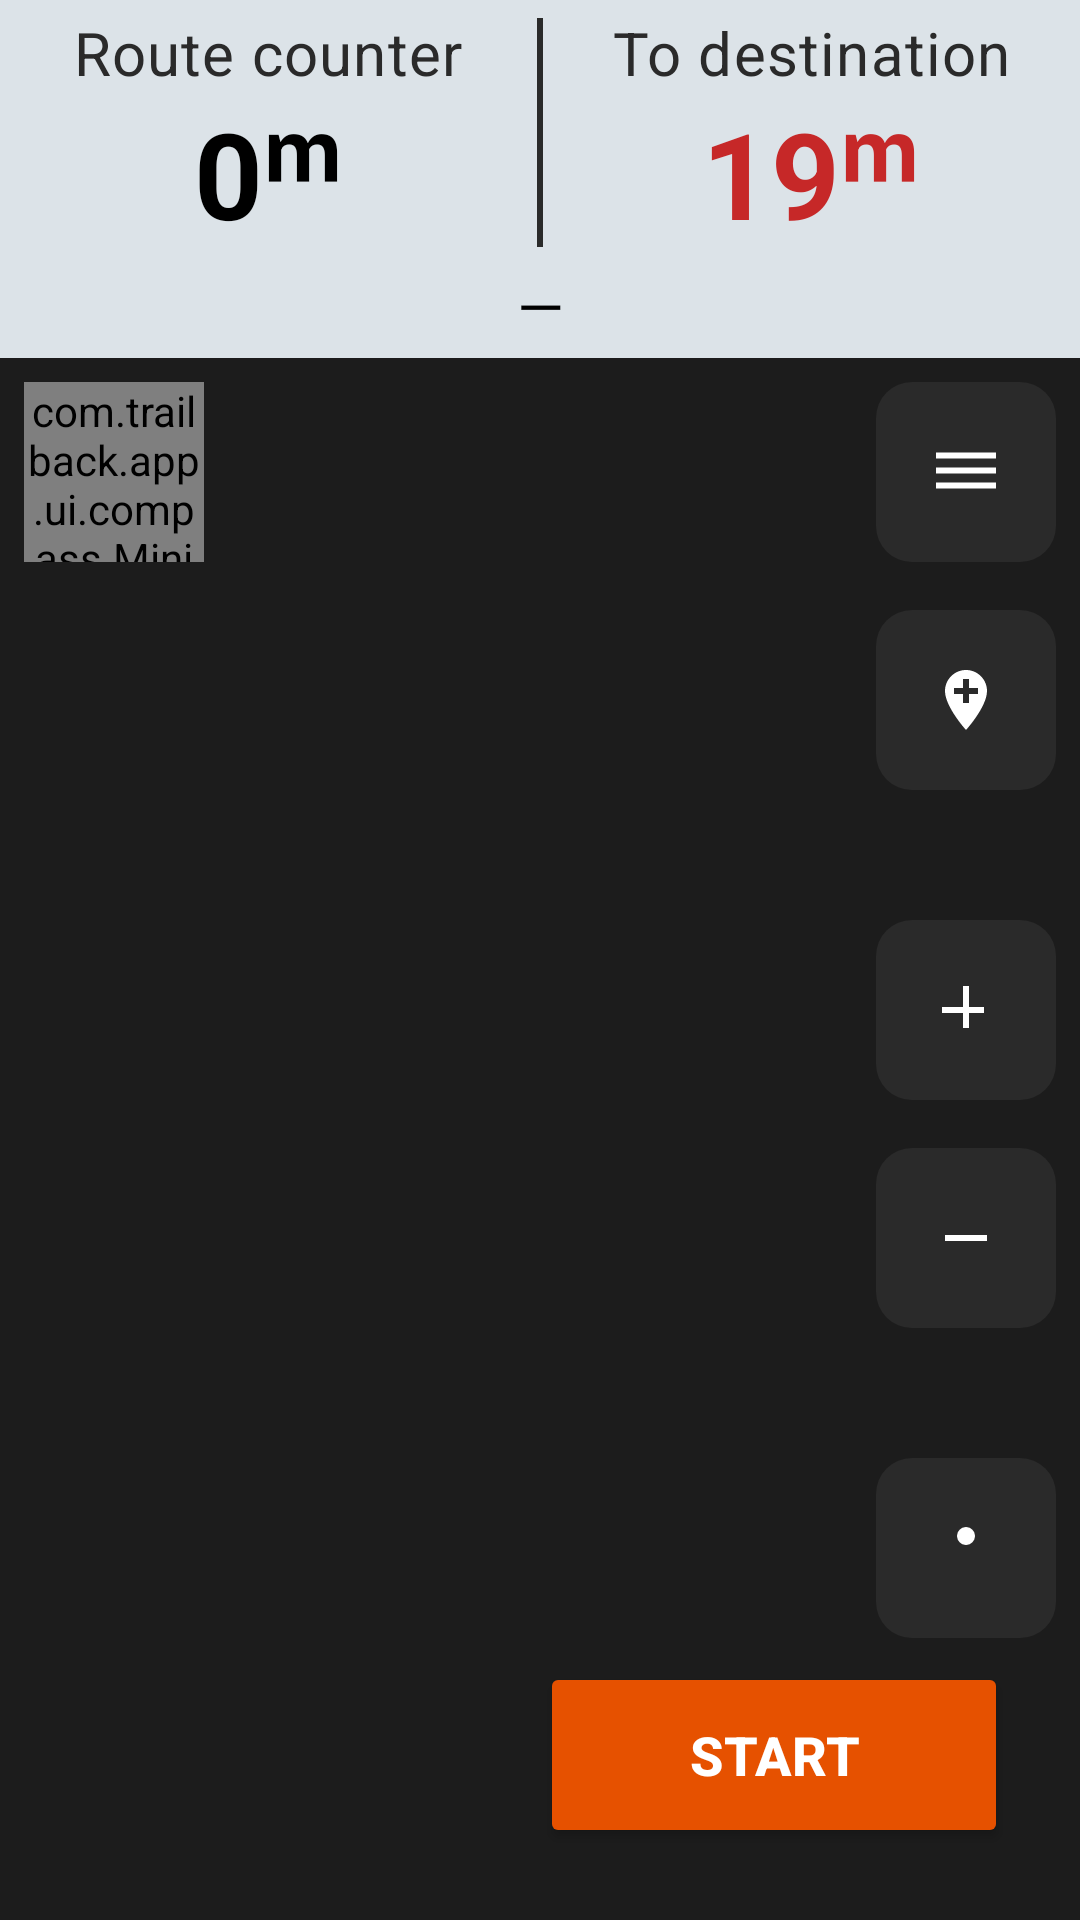

Named icons in this screenshot (1080*1920) and their bounding boxes, (left=x1, top=y1, right=x2, bottom=y2):
add location: (left=945, top=670, right=987, bottom=730)
dehaze: (left=936, top=452, right=996, bottom=489)
zoom in: (left=876, top=920, right=1056, bottom=1100)
